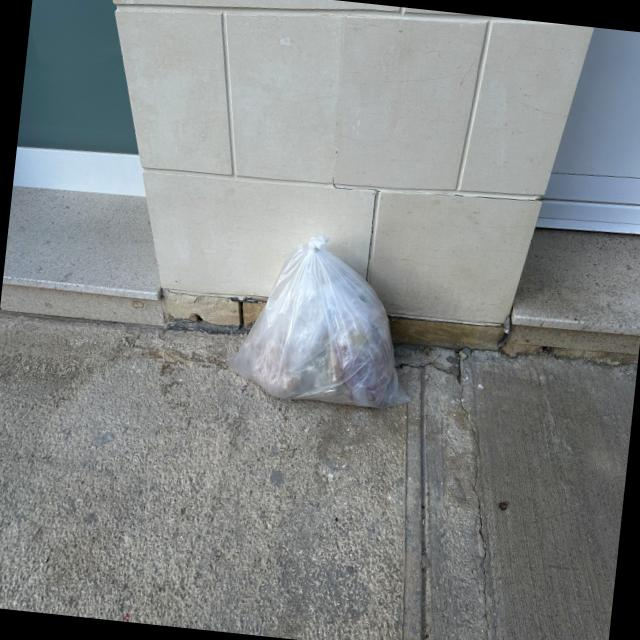Organic Waste -White Bags-: (225, 233, 411, 408)
